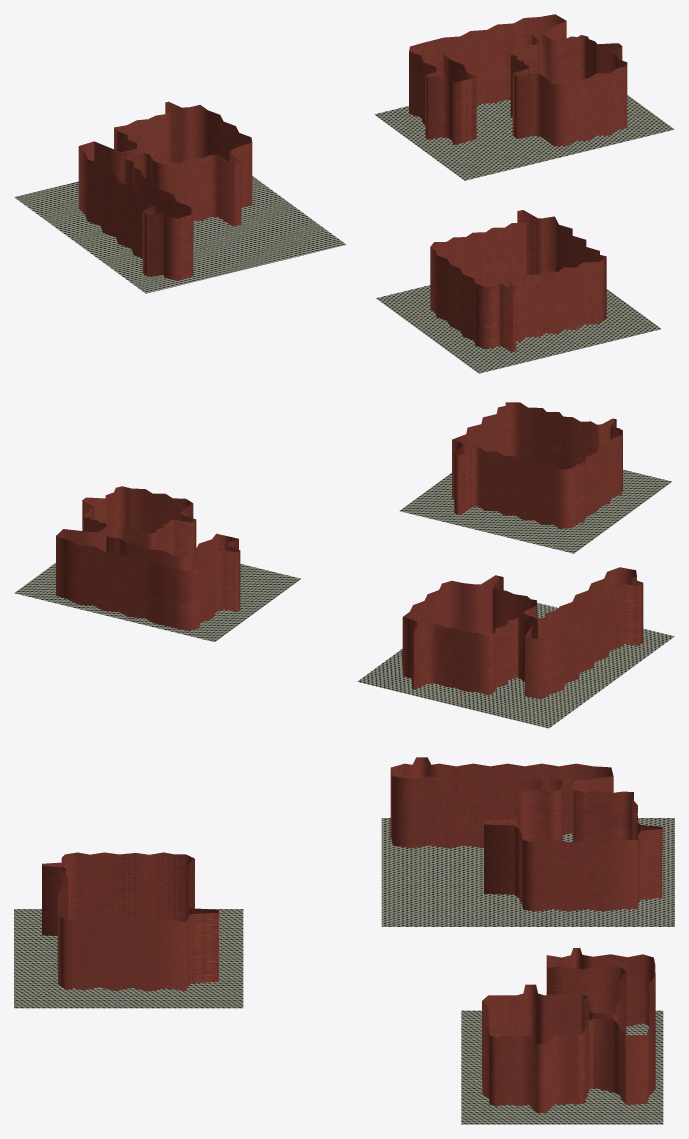
File: SM_TerminalPalace_00.fbx
3 views of the same model, one above another, from view 1: azimuth 30°, elevation 25°; view 2: azimuth 150°, elevation 25°; view 3: azimuth 270°, elevation 25° (orthographic). The views are drawn at different scales.
Parts seen in each view (by area): view 1: SM_TerminalPalace_00; view 2: SM_TerminalPalace_00; view 3: SM_TerminalPalace_00.
Part boxes in pixels (bbox=[...]): SM_TerminalPalace_00: bbox=[14, 14, 674, 373]; SM_TerminalPalace_00: bbox=[14, 402, 674, 728]; SM_TerminalPalace_00: bbox=[14, 757, 674, 1124].
Size of the model in its own units: 13325 by 1425 by 12139.
